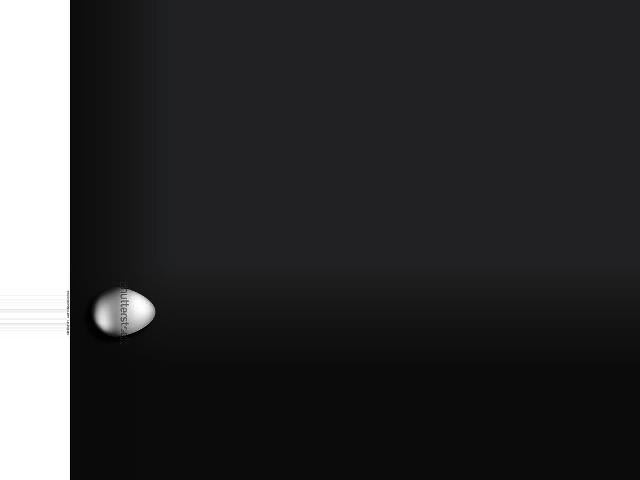egg: (91, 287, 156, 337)
